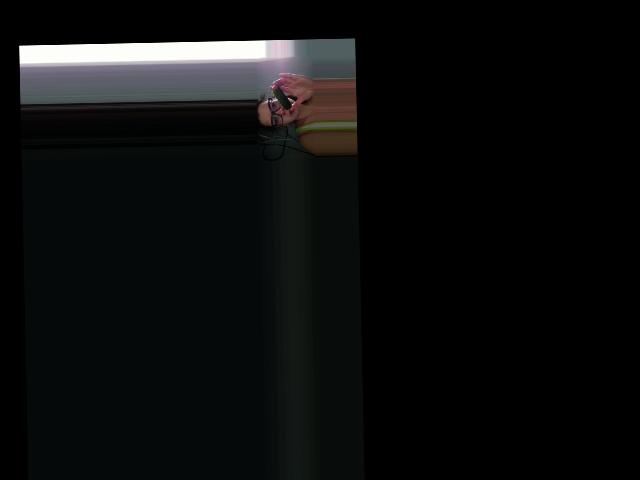cucumber: (272, 87, 291, 110)
